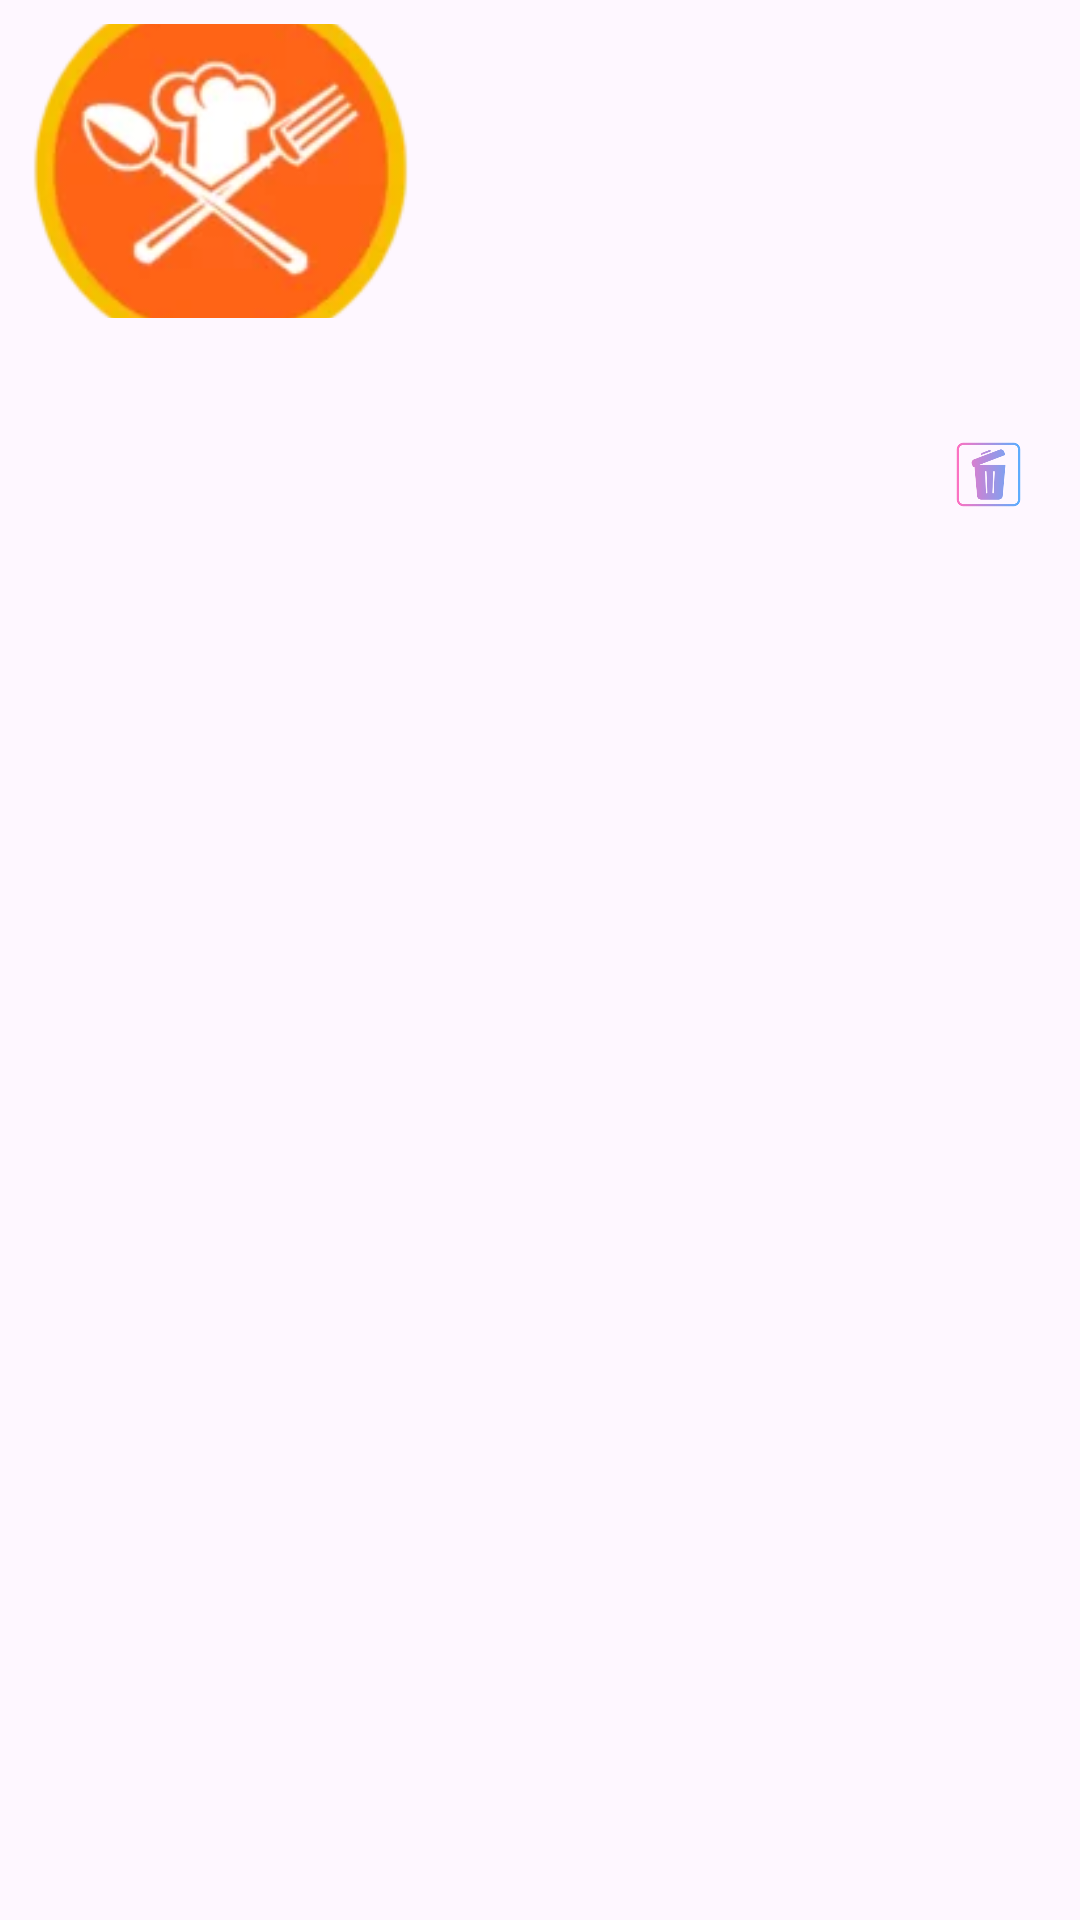

Named icons in this screenshot (1080x1920) and their bounding boxes, (x1=x1, y1=y1, x2=x2, y2=y2):
delete: (x1=956, y1=442, x2=1021, y2=507)
